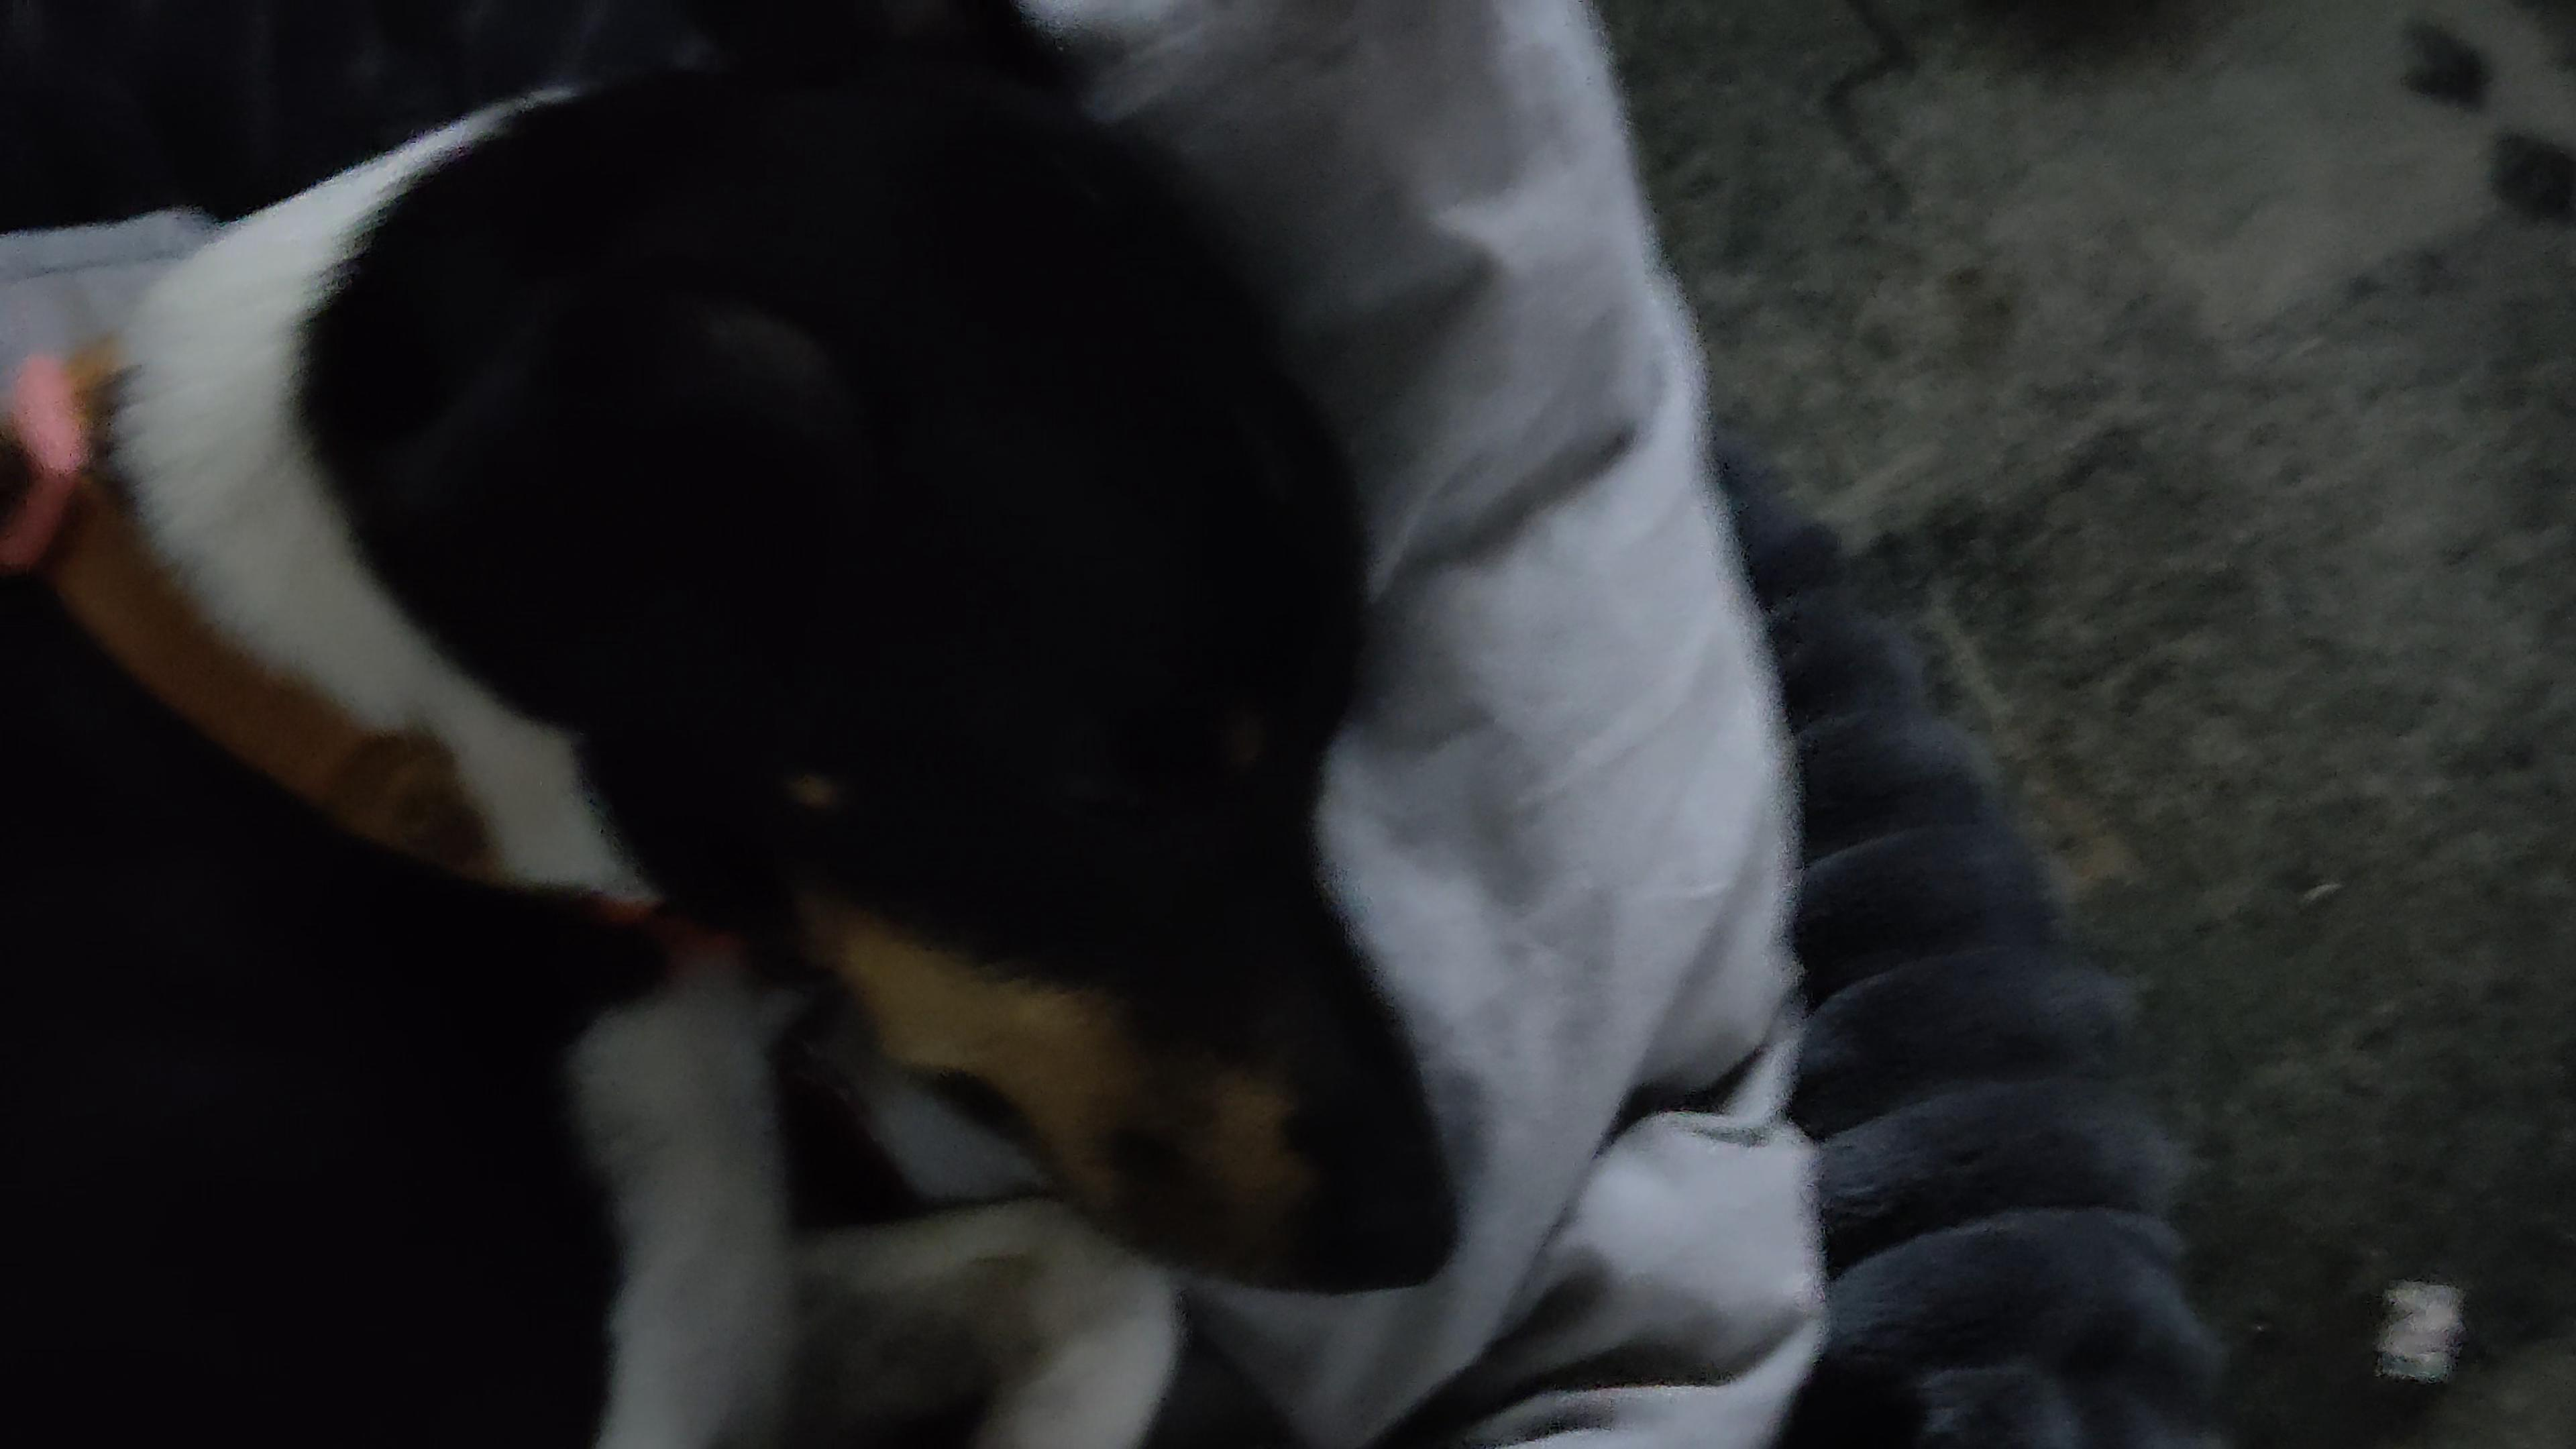Dog: (0, 0, 1488, 1449)
